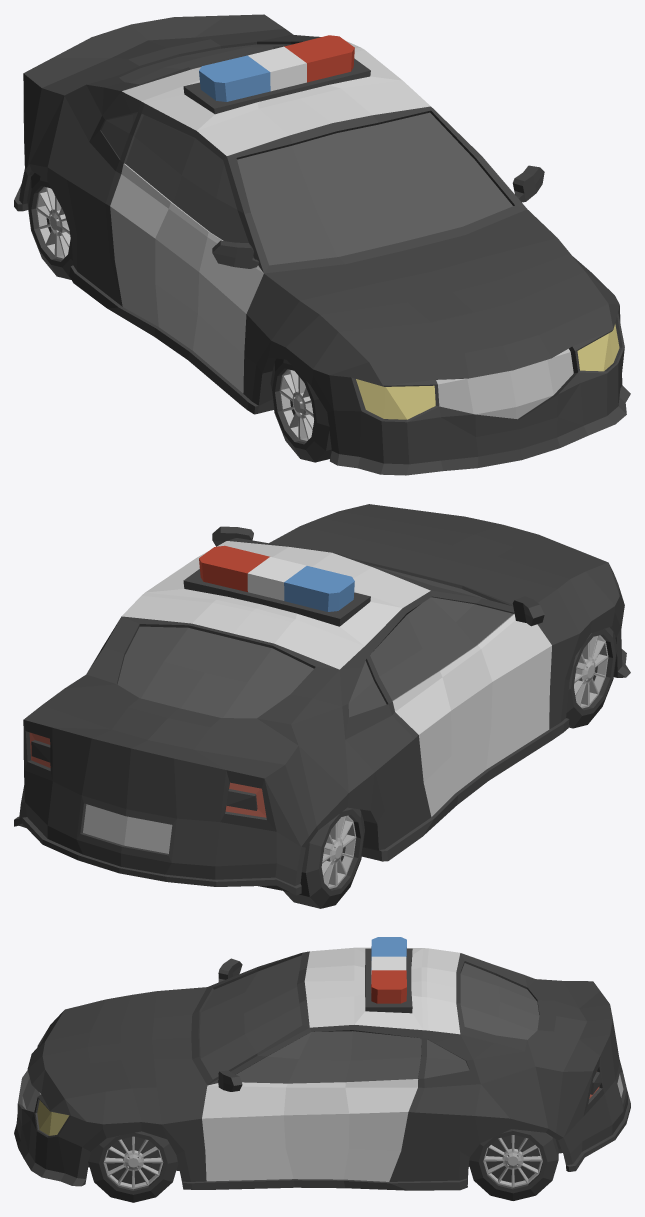
Rendered from Cop.fbx.
3 views of the same model, one above another, from view 1: azimuth 30°, elevation 25°; view 2: azimuth 150°, elevation 25°; view 3: azimuth 270°, elevation 25° (orthographic). The views are drawn at different scales.
Parts seen in each view (by area): view 1: Body, Wheels_Front, Wheels_Rear; view 2: Body, Wheels_Rear, Wheels_Front; view 3: Body, Wheels_Rear, Wheels_Front.
Boxes of the visible parts, bbox=[...] form: Body: bbox=[14, 14, 630, 475]; Wheels_Front: bbox=[270, 358, 331, 462]; Wheels_Rear: bbox=[27, 173, 73, 279]; Body: bbox=[14, 504, 630, 895]; Wheels_Rear: bbox=[283, 807, 364, 908]; Wheels_Front: bbox=[566, 627, 617, 728]; Body: bbox=[14, 937, 630, 1190]; Wheels_Rear: bbox=[469, 1129, 558, 1200]; Wheels_Front: bbox=[88, 1131, 178, 1202].
Size of the model in its own units: 1.78 by 1.24 by 3.73.
